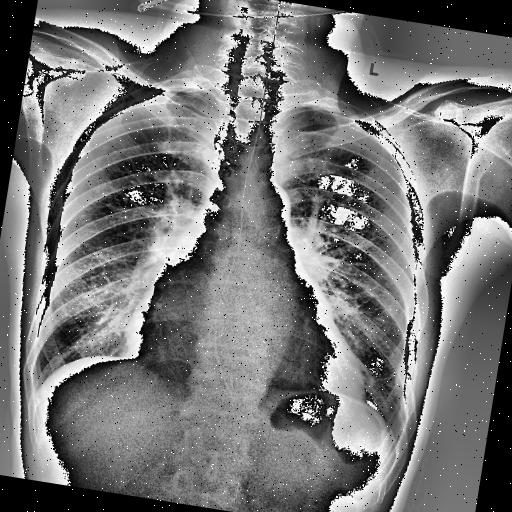3- Cardiomegaly: (121, 264, 380, 404), (116, 290, 368, 400), (114, 301, 370, 406)
9- Other lesion: (296, 266, 340, 322)
